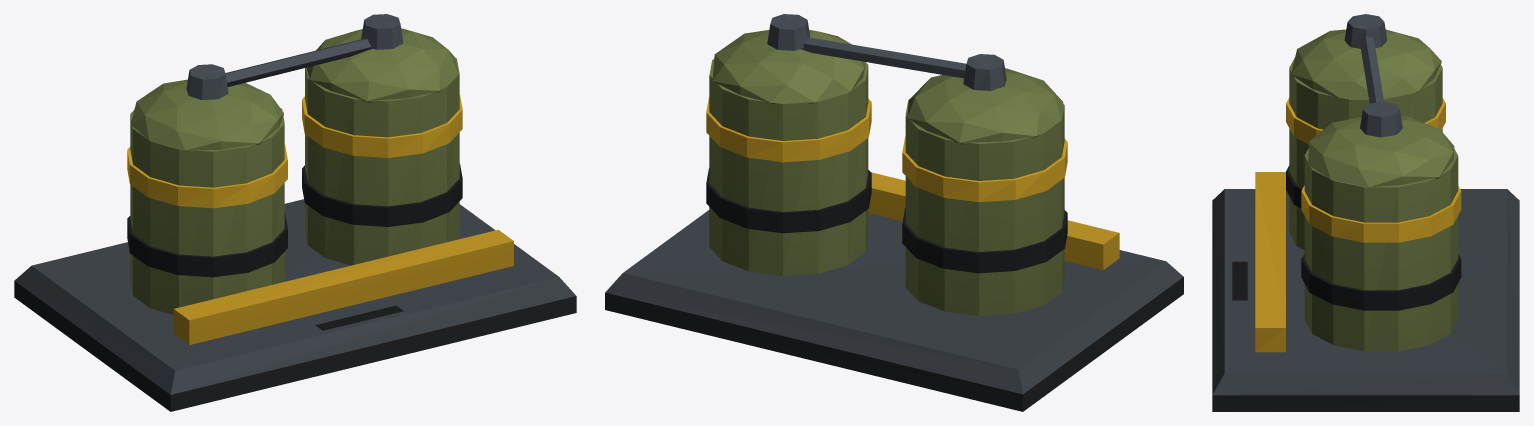
File: outpost-fuel-tanks.glb
3 views of the same model, side by side, from view 1: azimuth 30°, elevation 25°; view 2: azimuth 150°, elevation 25°; view 3: azimuth 270°, elevation 25° (orthographic). The views are drawn at different scales.
Size of the model in its own units: 3 by 1.8 by 2.
